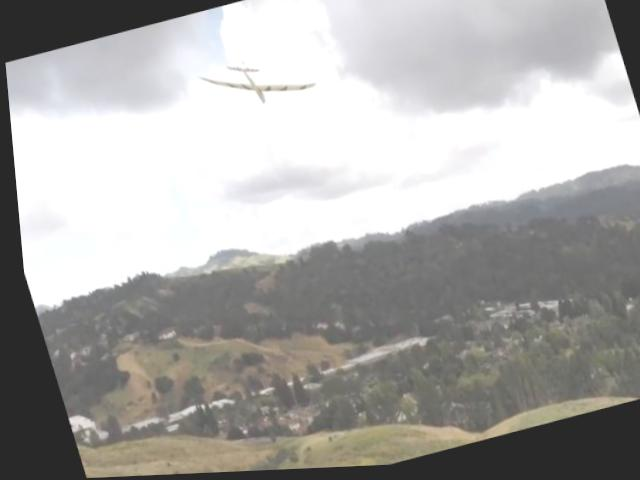iha: (183, 31, 319, 125)
